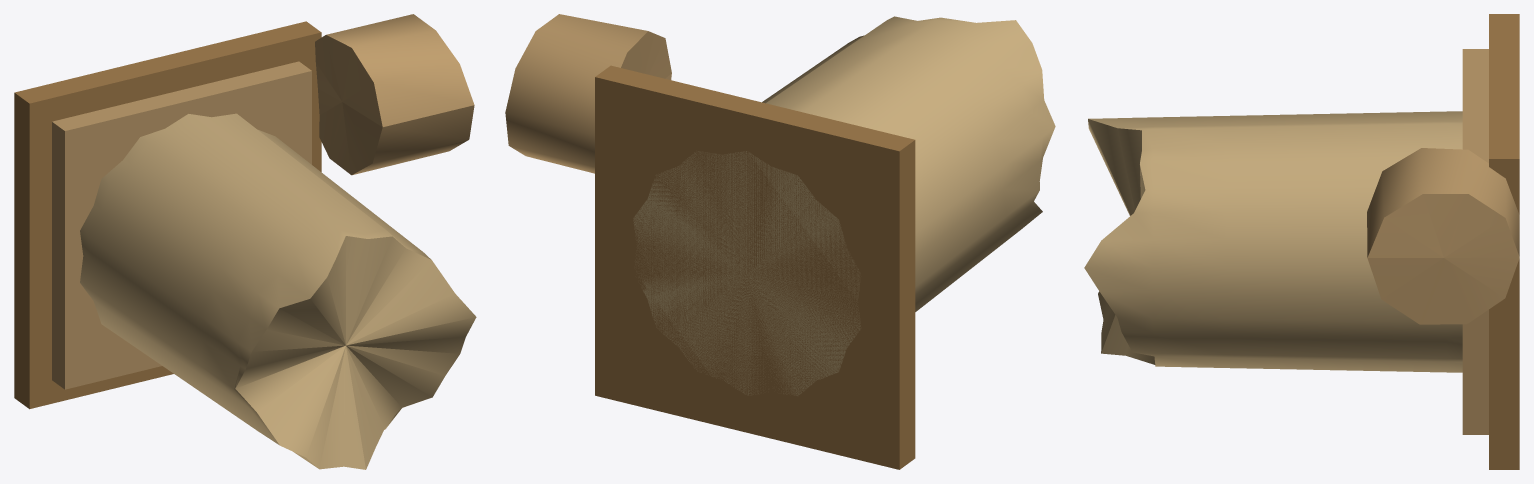
The model's file is pillar_broken.glb.
3 renders of one model, left to right at view 1: azimuth 30°, elevation 25°; view 2: azimuth 150°, elevation 25°; view 3: azimuth 270°, elevation 25°, orthographic. The views are drawn at different scales.
Visible parts, largest first — view 1: PillarMesh; view 2: PillarMesh; view 3: PillarMesh.
Part boxes in pixels (bbox=[...]): PillarMesh: bbox=[14, 14, 476, 469]; PillarMesh: bbox=[505, 14, 1055, 469]; PillarMesh: bbox=[1084, 14, 1519, 469].
Bounding box in the file's own units: 1.04 × 0.8123 × 1.
